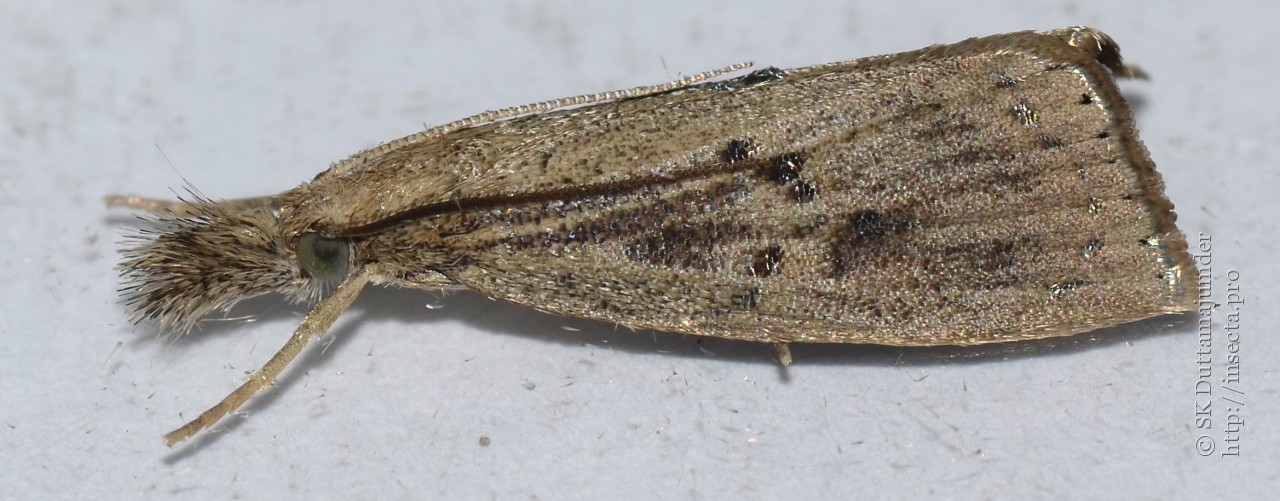Crambidae: (100, 13, 1207, 460)
